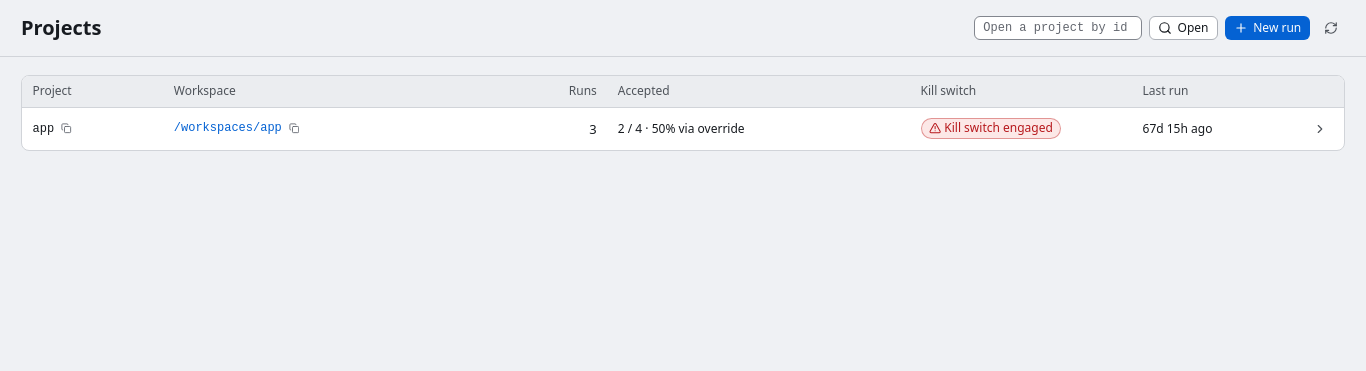
it: the lookup form opens a project by id on its Release tab, and does nothing when empty
The image size is (1366, 371).
Expected: the text "2 / 4 · 50% via override" is shown, [607, 107, 910, 150]
Click the button "Open".
click(1183, 28)  # box [1149, 16, 1218, 40]
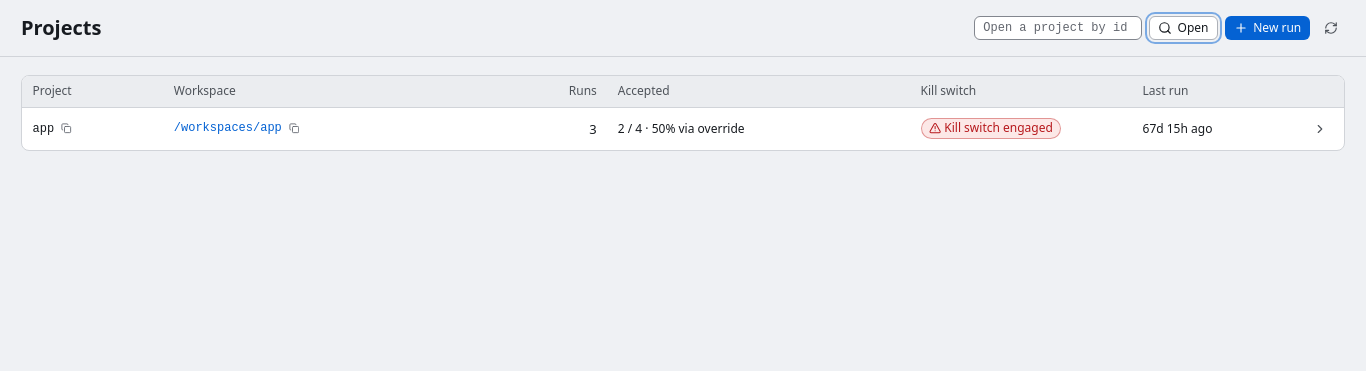
Type "never-ran" into the field labelled "Open a project by id".
click(1058, 28); type("never-ran")  # box [974, 16, 1142, 40]
Then press Enter
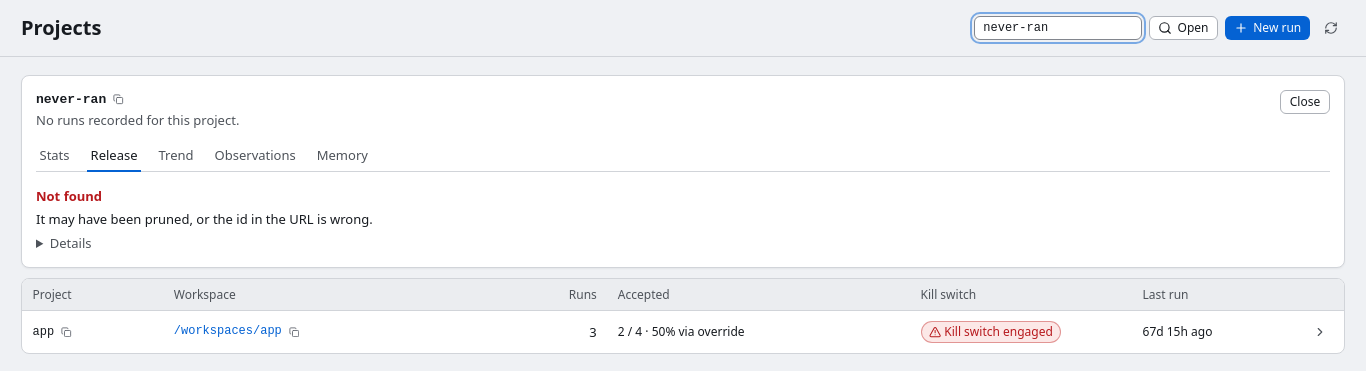
Expected: the text "No runs recorded for this project." is shown, [36, 110, 239, 130]
